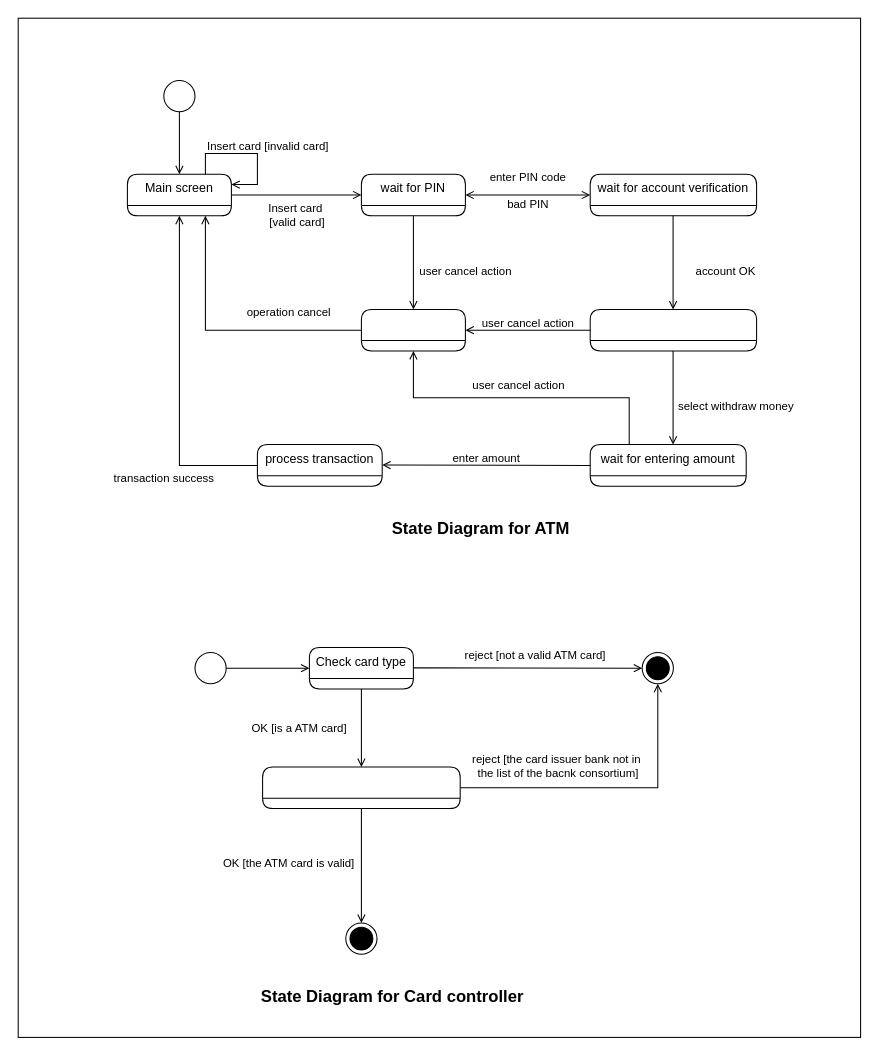
This 879x1056 diagram has some shape labels left out. Here are the shapes that lost their labels. From the top down, the centre of each, then its label:
At pixel 412 329: "Cancel".
At pixel 673 329: "wait for selecting services".
At pixel 361 787: "Check card with bank consortium".
